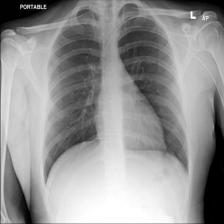normal: (40, 8, 193, 196)
